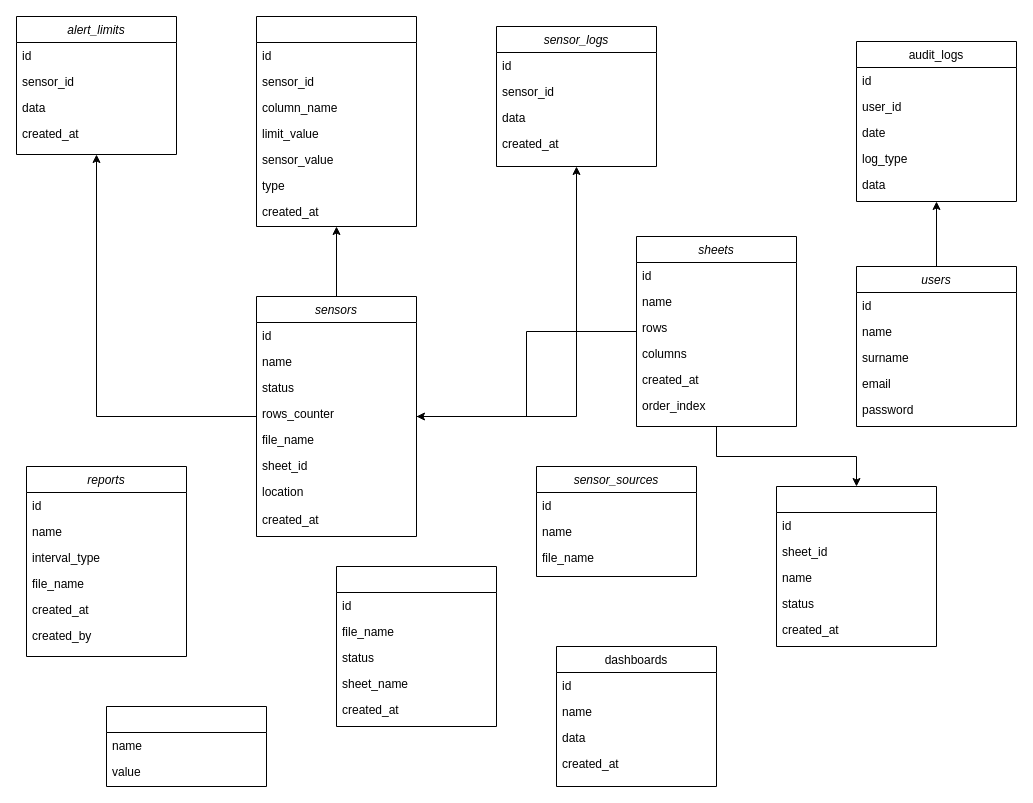
The diagram is 1033 pixels wide and 803 high, and some of its shapes have lost their labels. The box of each missing label's shape, as (x1, y1, x2, y2) in pixels:
alert_logs: (256, 16, 416, 226)
connections: (776, 486, 936, 646)
file_imports: (336, 566, 496, 726)
settings: (106, 706, 266, 786)
